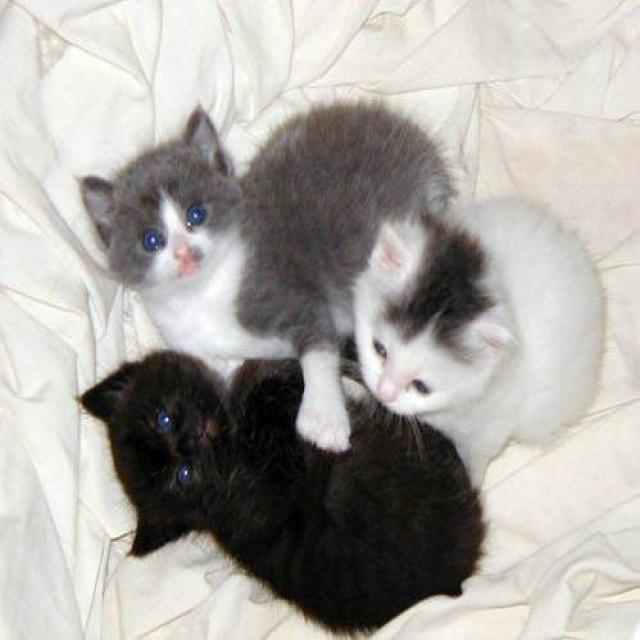cat: (80, 96, 459, 454), (74, 348, 486, 638), (341, 192, 607, 490)
